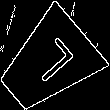L_SW: (19, 36, 76, 92)
